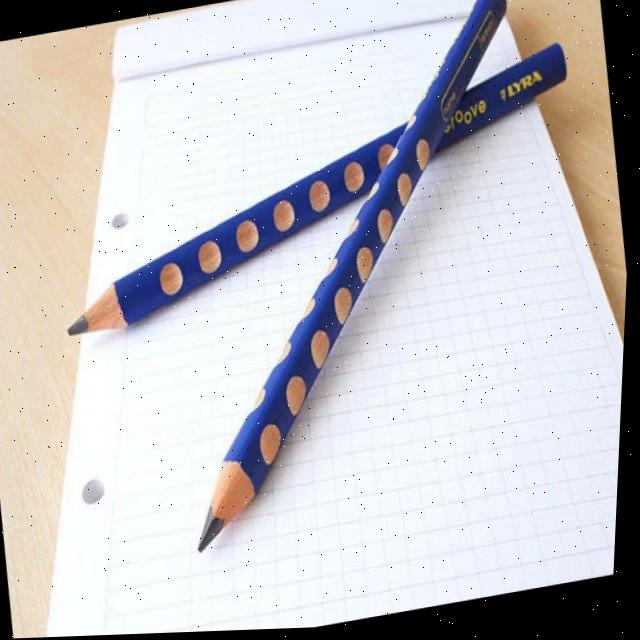pencil: (197, 0, 519, 574), (51, 36, 579, 344)
